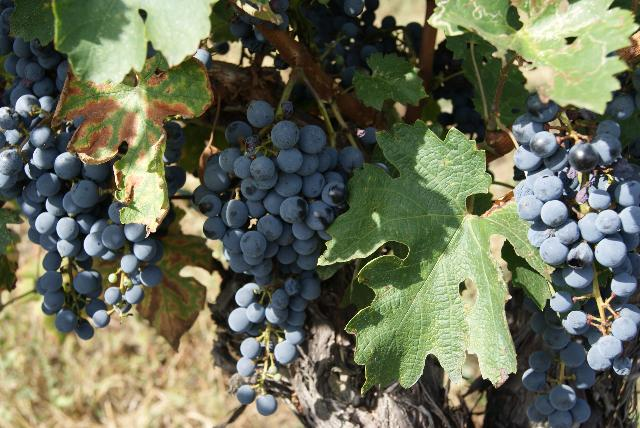grapes: (0, 39, 164, 340), (194, 100, 348, 380), (511, 92, 640, 389), (238, 385, 256, 405)
